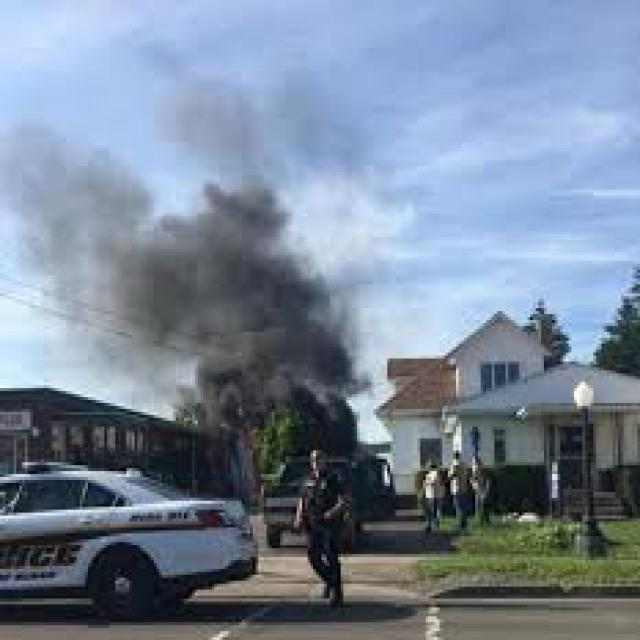Smoke: (19, 146, 376, 426)
